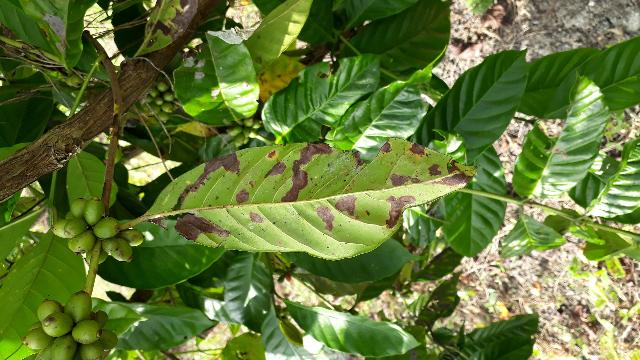red_spider_mite: (140, 137, 478, 258)
